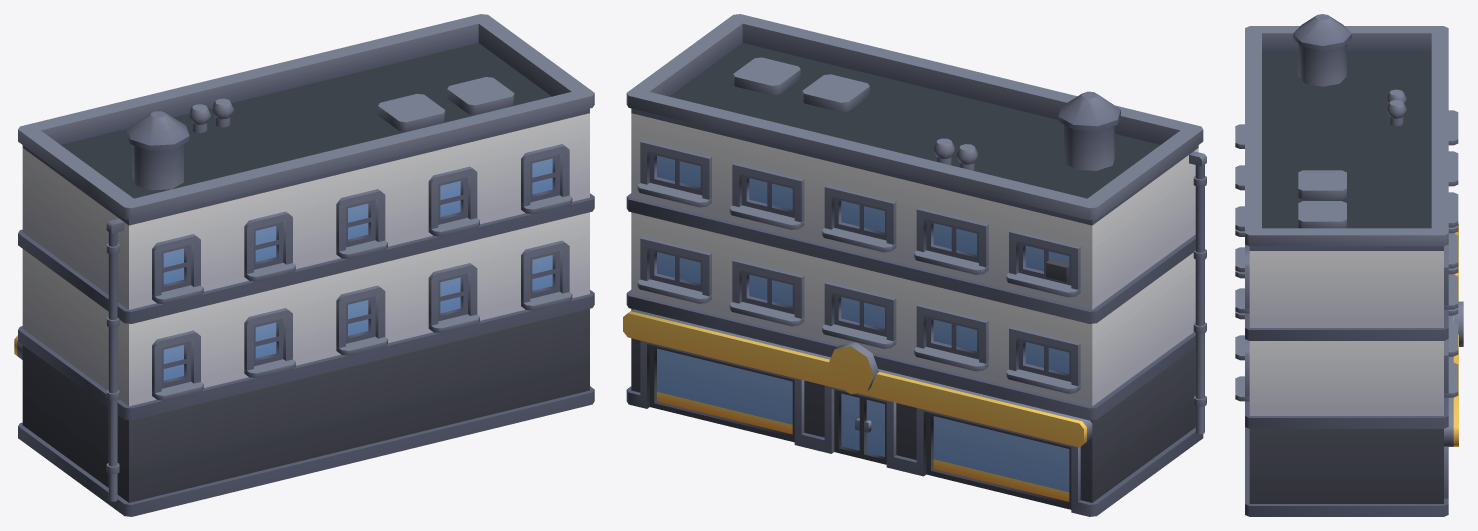
File: k-city-kit-commercial-building-k.glb
3 views of the same model, side by side, from view 1: azimuth 30°, elevation 25°; view 2: azimuth 150°, elevation 25°; view 3: azimuth 270°, elevation 25° (orthographic). The views are drawn at different scales.
Parts seen in each view (by area): view 1: building-k; view 2: building-k; view 3: building-k.
Part boxes in pixels (x1,y1,x2,y2): building-k: (14, 14, 594, 516); building-k: (623, 14, 1206, 516); building-k: (1235, 14, 1463, 516).
Bounding box in the file's own units: 2.08 × 1.47 × 0.9419.
Materials: 1 (1 with a texture image).
